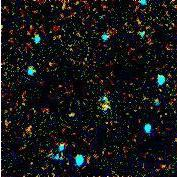star: (90, 96, 120, 126)
